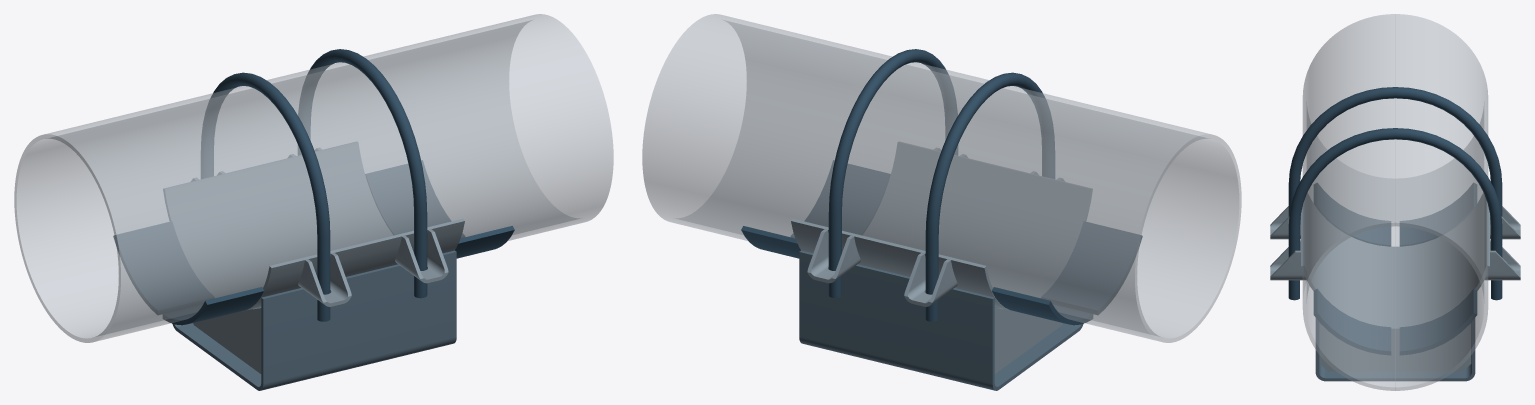
The model's file is TS-670.00.00-24-opora-dn325-H100.glb.
3 renders of one model, left to right at view 1: azimuth 30°, elevation 25°; view 2: azimuth 150°, elevation 25°; view 3: azimuth 270°, elevation 25°, orthographic. The views are drawn at different scales.
Parts seen in each view (by area): view 1: truba, podushka_0, skoba_1, upor_-1_1, homut_-1, homut_1, upor_1_1, rebro_2, upor_-1_-1, ushko_8, ushko_6, upor_1_-1; view 2: truba, podushka_0, skoba_1, upor_-1_-1, homut_-1, homut_1, upor_1_-1, rebro_2, upor_-1_1, ushko_7, ushko_5, upor_1_1; view 3: truba, podushka_0, homut_1, rebro_4, homut_-1, upor_1_1, upor_1_-1, skoba_1, upor_-1_1, upor_-1_-1, ushko_5, ushko_6 (+2 smaller).
Boxes of the visible parts, <box> form: truba: <box>14,14,613,342</box>; podushka_0: <box>163,142,464,311</box>; skoba_1: <box>172,250,456,390</box>; upor_-1_1: <box>113,221,214,314</box>; homut_-1: <box>201,72,330,321</box>; homut_1: <box>298,49,427,298</box>; upor_1_1: <box>365,160,464,237</box>; rebro_2: <box>193,308,261,373</box>; upor_-1_-1: <box>163,287,263,325</box>; ushko_8: <box>298,253,351,306</box>; ushko_6: <box>395,229,448,283</box>; upor_1_-1: <box>455,226,514,258</box>; truba: <box>642,14,1241,342</box>; podushka_0: <box>791,142,1092,311</box>; skoba_1: <box>799,250,1083,390</box>; upor_-1_-1: <box>1041,221,1142,314</box>; homut_-1: <box>925,72,1054,321</box>; homut_1: <box>828,49,957,298</box>; upor_1_-1: <box>791,160,890,237</box>; rebro_2: <box>994,308,1062,373</box>; upor_-1_1: <box>992,287,1092,325</box>; ushko_7: <box>904,253,957,306</box>; ushko_5: <box>807,229,860,283</box>; upor_1_1: <box>741,226,800,258</box>; truba: <box>1302,14,1488,390</box>; podushka_0: <box>1301,193,1489,331</box>; homut_1: <box>1288,128,1502,300</box>; rebro_4: <box>1319,323,1471,371</box>; homut_-1: <box>1288,87,1502,216</box>; upor_1_1: <box>1399,289,1477,355</box>; upor_1_-1: <box>1313,289,1391,355</box>; skoba_1: <box>1315,318,1475,381</box>; upor_-1_1: <box>1399,183,1476,246</box>; upor_-1_-1: <box>1314,183,1391,246</box>; ushko_5: <box>1484,239,1520,280</box>; ushko_6: <box>1270,239,1306,280</box>.
Size of the model in its own units: 865 by 449 by 438.
